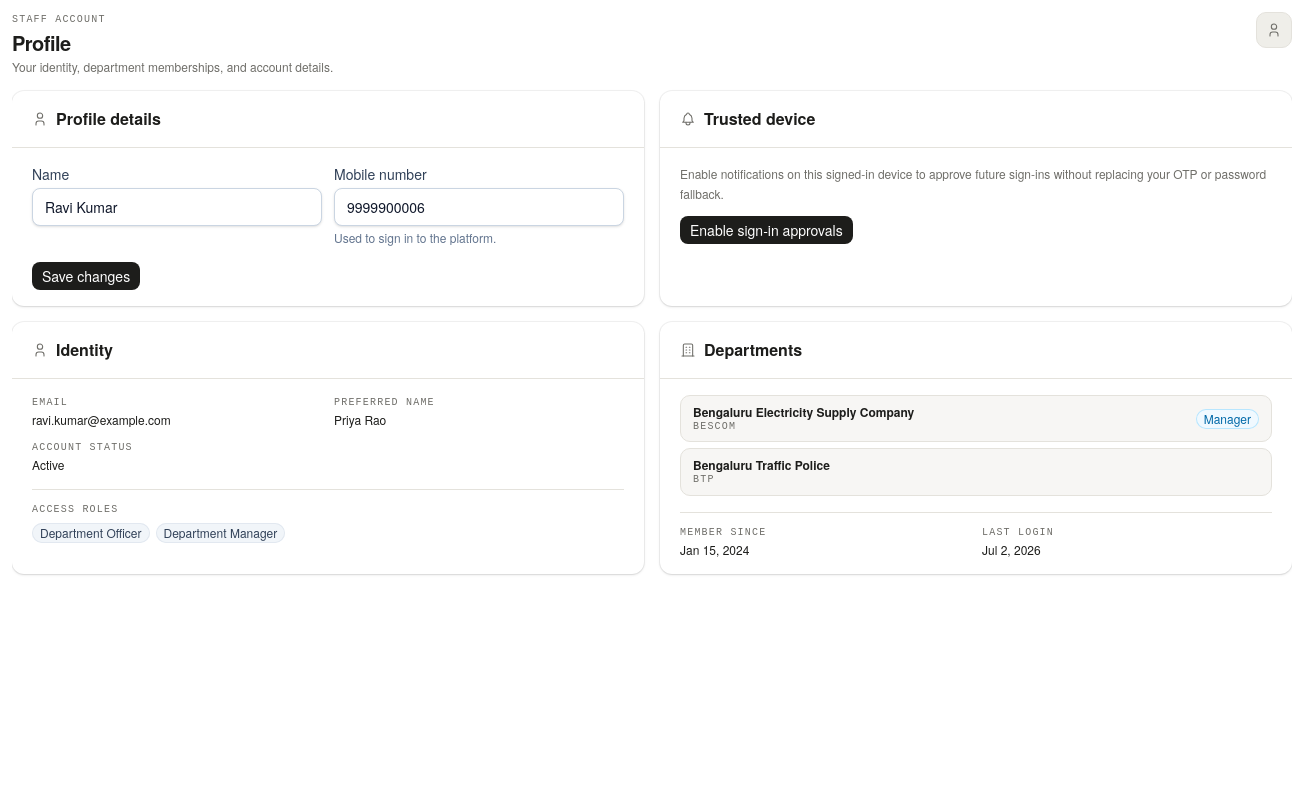
Test: StaffProfilePage › saves updated name and mobile with a trimmed payload
Check: the heading "Profile" is shown, box [12,28,71,57]
Replace the text in the field labelled "Name" with "  Ravi  ": (177, 207) [32,188,322,226]
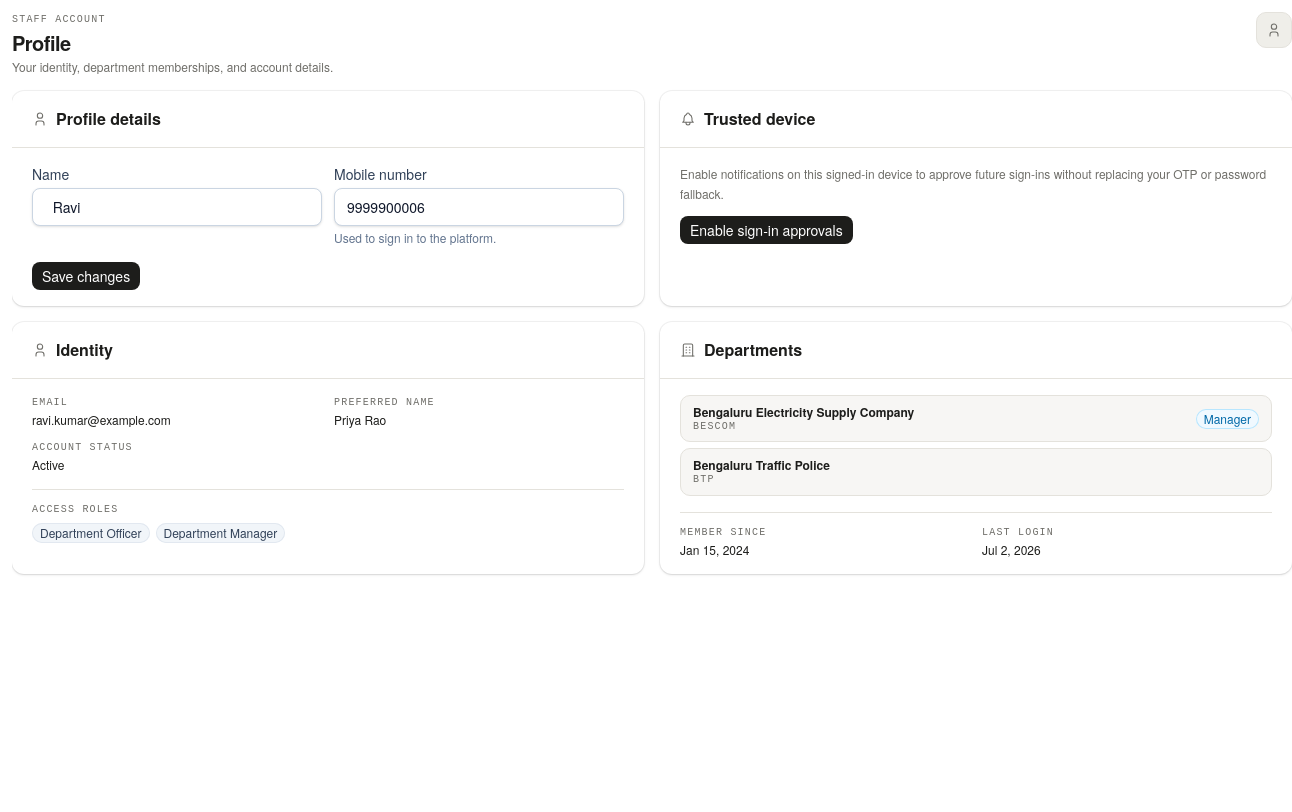
Replace the text in the field labelled "Mobile number" with " 9898989800 ": (479, 207) [334,188,624,226]
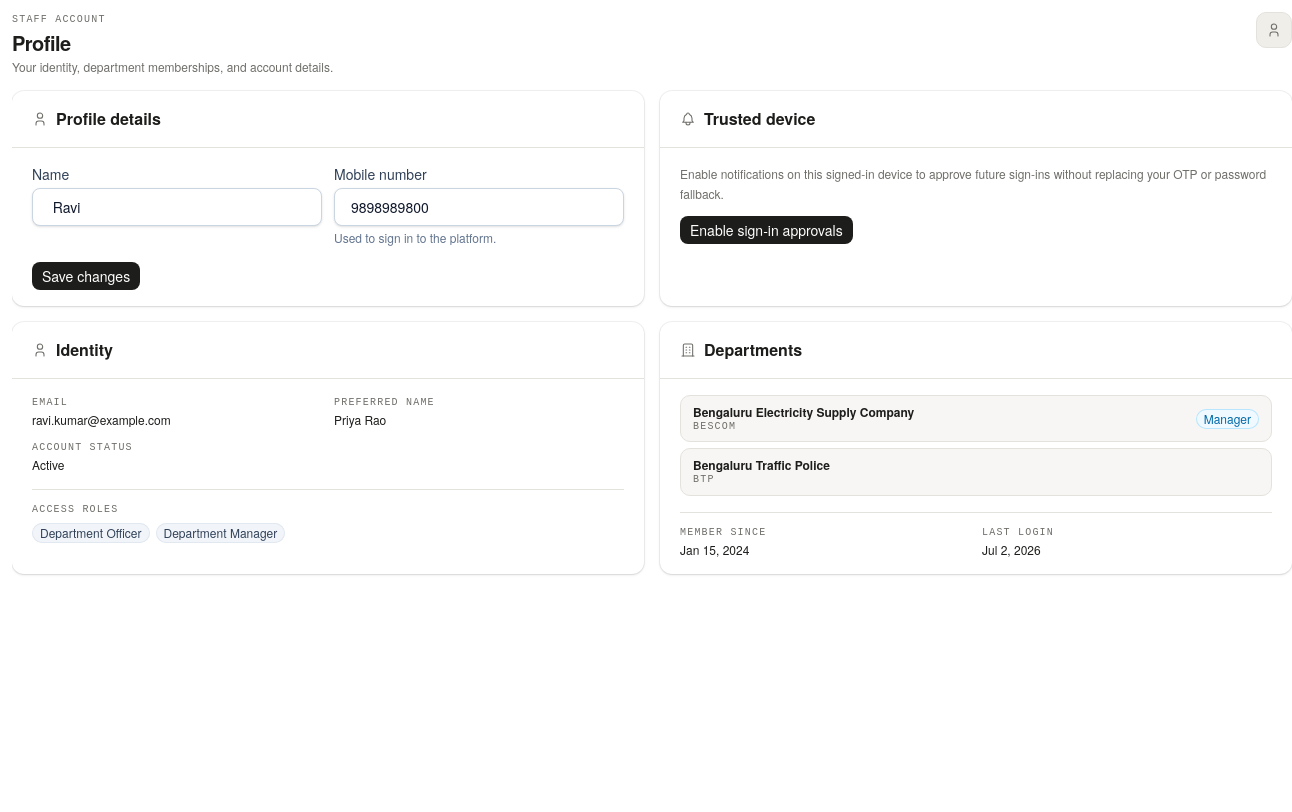
Click the button "Save changes": click(86, 276) [32,262,140,290]
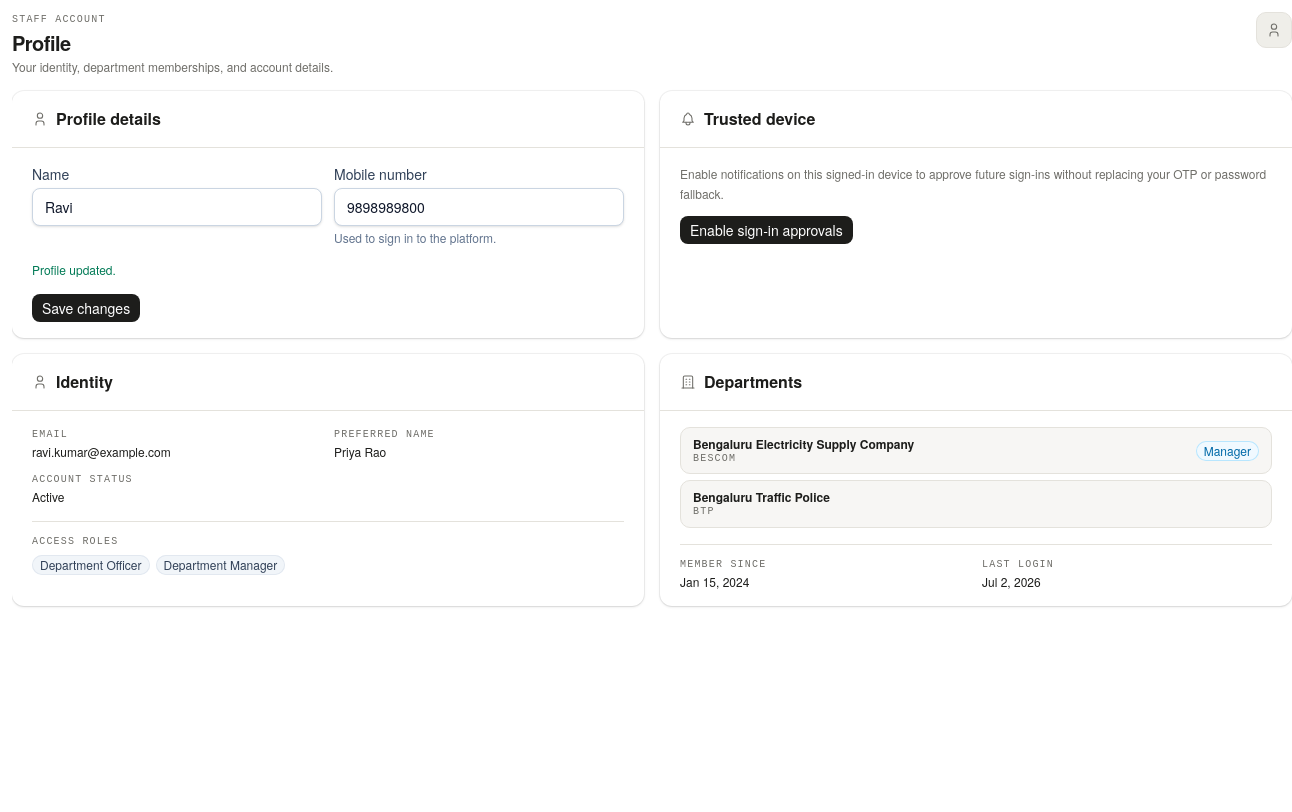
Check: the text "Profile updated." is shown, box [32,261,116,278]
